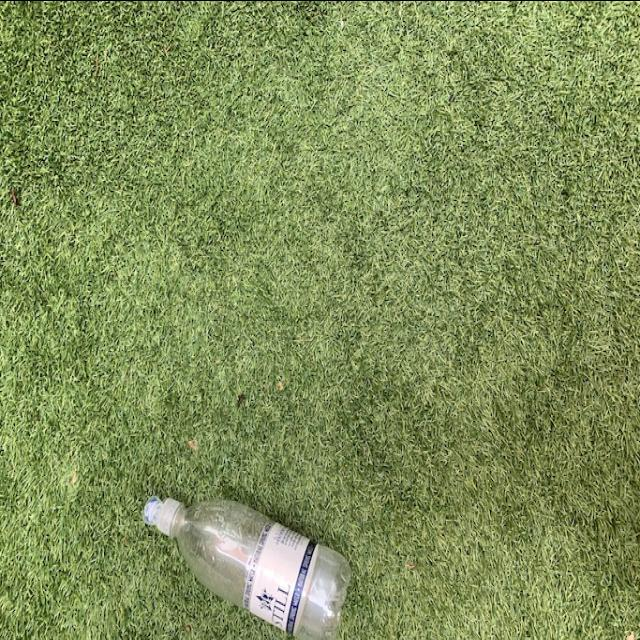PET: (142, 490, 358, 640)
